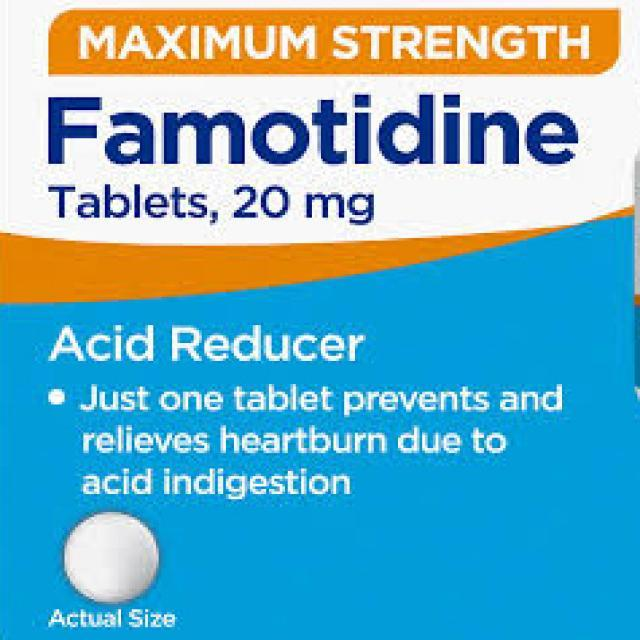drug-name: (45, 89, 581, 176)
